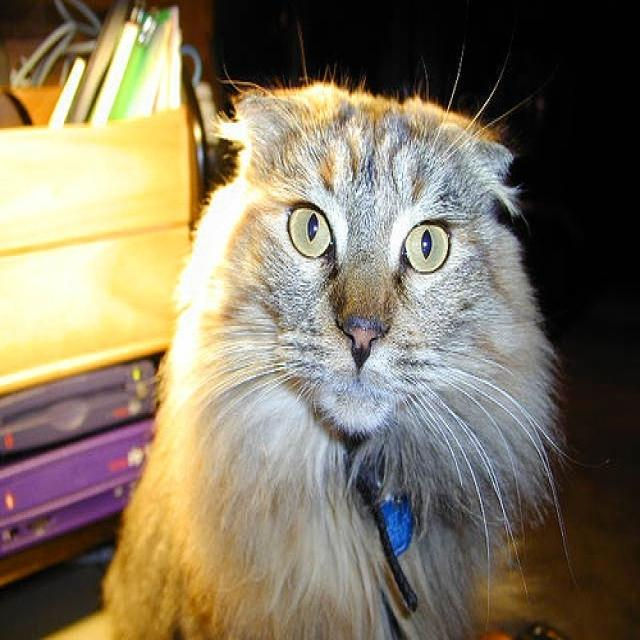cat: (100, 81, 562, 638)
